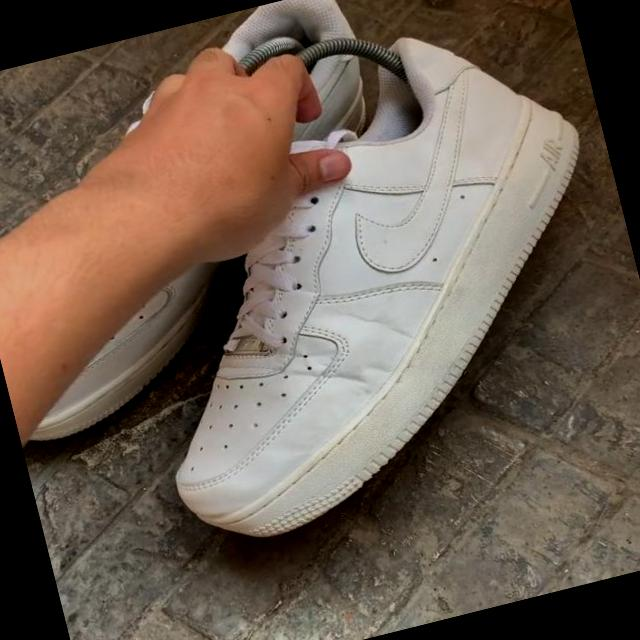nike_fake_airforce: (51, 0, 640, 562)
